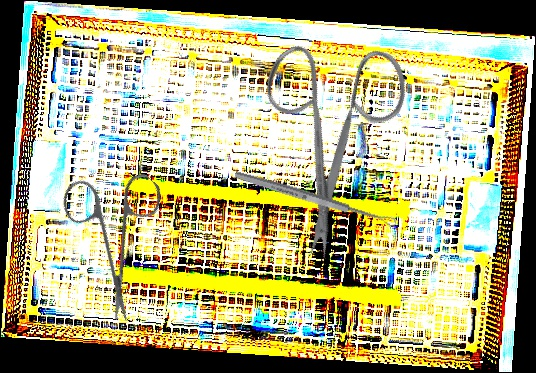Iris Scissors: (210, 3, 466, 267), (22, 141, 208, 326)
Surgical Spoon: (233, 169, 398, 229)
